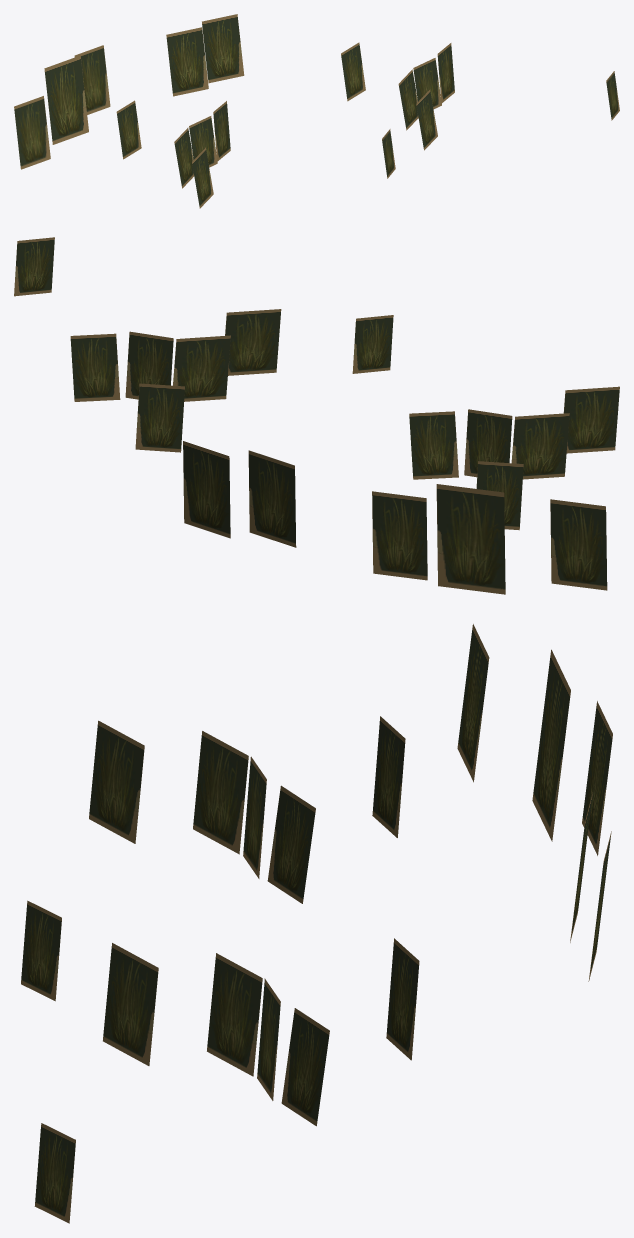
The model's file is menu_object_grass_polys07.fbx.
3 renders of one model, top to bottom at view 1: azimuth 30°, elevation 25°; view 2: azimuth 150°, elevation 25°; view 3: azimuth 270°, elevation 25°, orthographic. The views are drawn at different scales.
Parts seen in each view (by area): view 1: Material_#238683980/town_grass_mat; view 2: Material_#238683980/town_grass_mat; view 3: Material_#238683980/town_grass_mat.
Boxes of the visible parts, x1=… form: Material_#238683980/town_grass_mat: x1=14, y1=14, x2=619, y2=208; Material_#238683980/town_grass_mat: x1=14, y1=237, x2=619, y2=594; Material_#238683980/town_grass_mat: x1=21, y1=624, x2=612, y2=1223.
Size of the model in its own units: 19.24 by 2.72 by 9.77.
